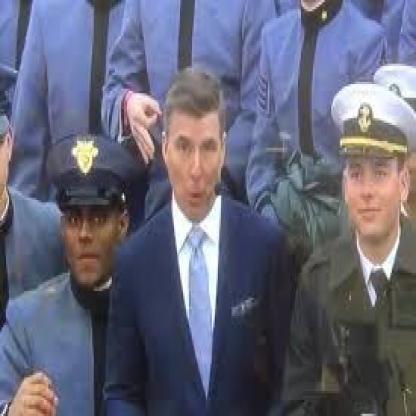ok: (126, 86, 164, 167)
